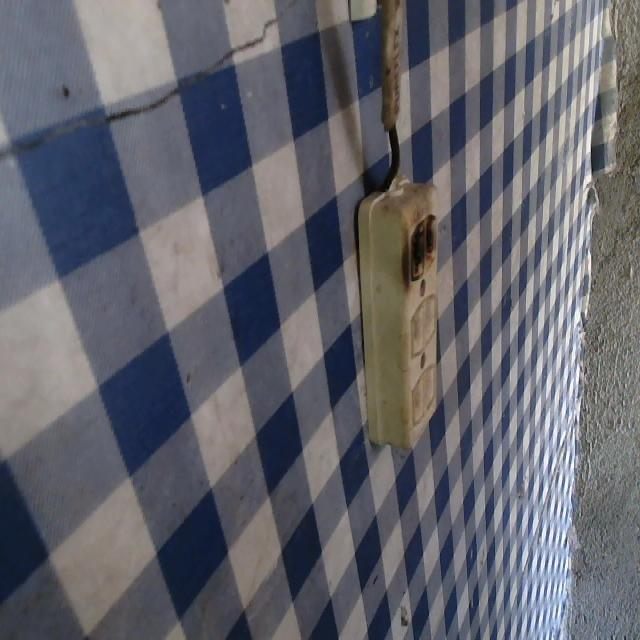-: (394, 211, 441, 280)
